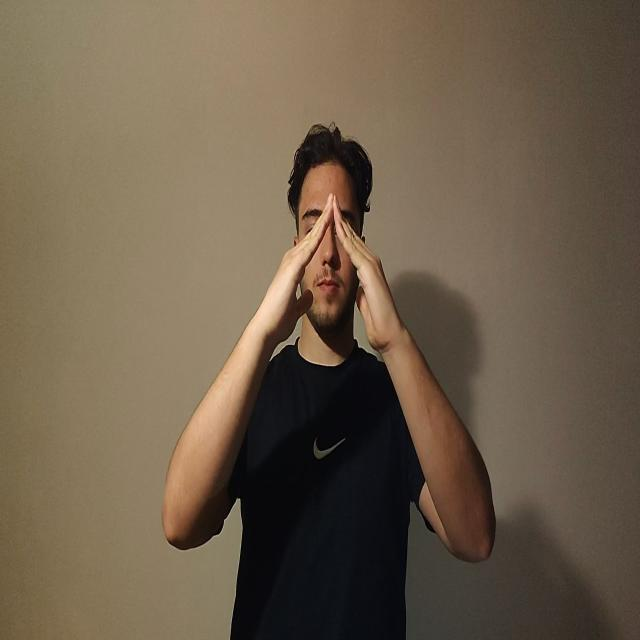house: (259, 199, 395, 356)
